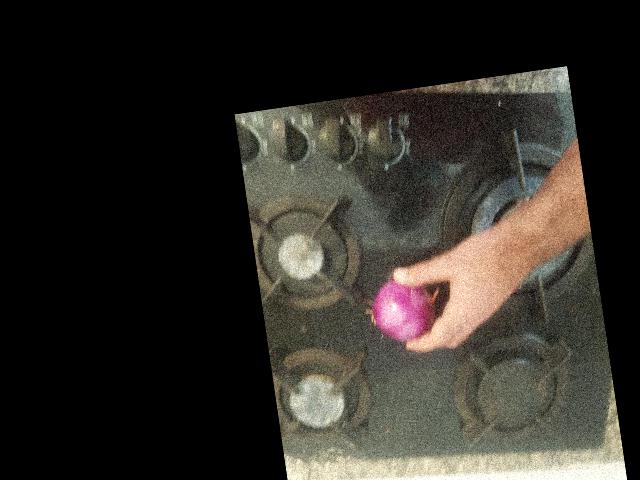onion: (370, 268, 445, 345)
